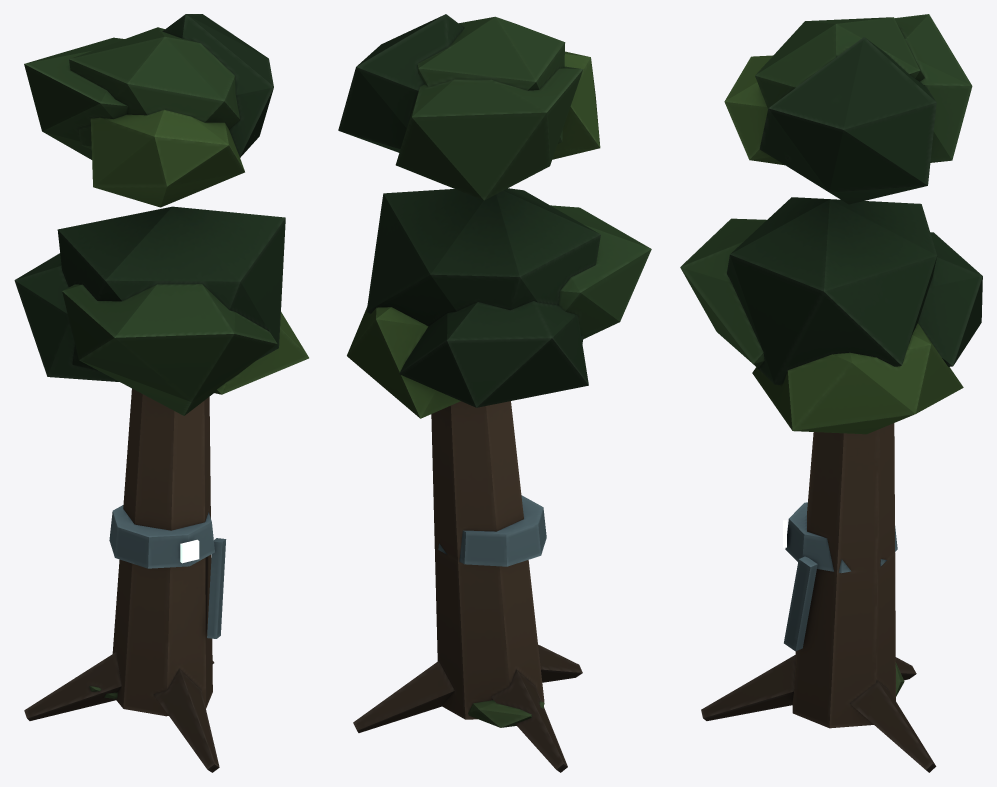
Rendered from obj_live_tree_b.glb.
The picture shows the model from 3 angles, left to right: view 1: azimuth 30°, elevation 25°; view 2: azimuth 150°, elevation 25°; view 3: azimuth 270°, elevation 25°; orthographic projection. The views are drawn at different scales.
Parts seen in each view (by area): view 1: obj_live_tree_b; view 2: obj_live_tree_b; view 3: obj_live_tree_b.
Boxes of the visible parts, <box> form: obj_live_tree_b: <box>14,14,308,772</box>; obj_live_tree_b: <box>338,14,651,772</box>; obj_live_tree_b: <box>680,14,982,772</box>.
Size of the model in its own units: 0.7937 by 2.3 by 0.8894.
1 material, 1 textured.
